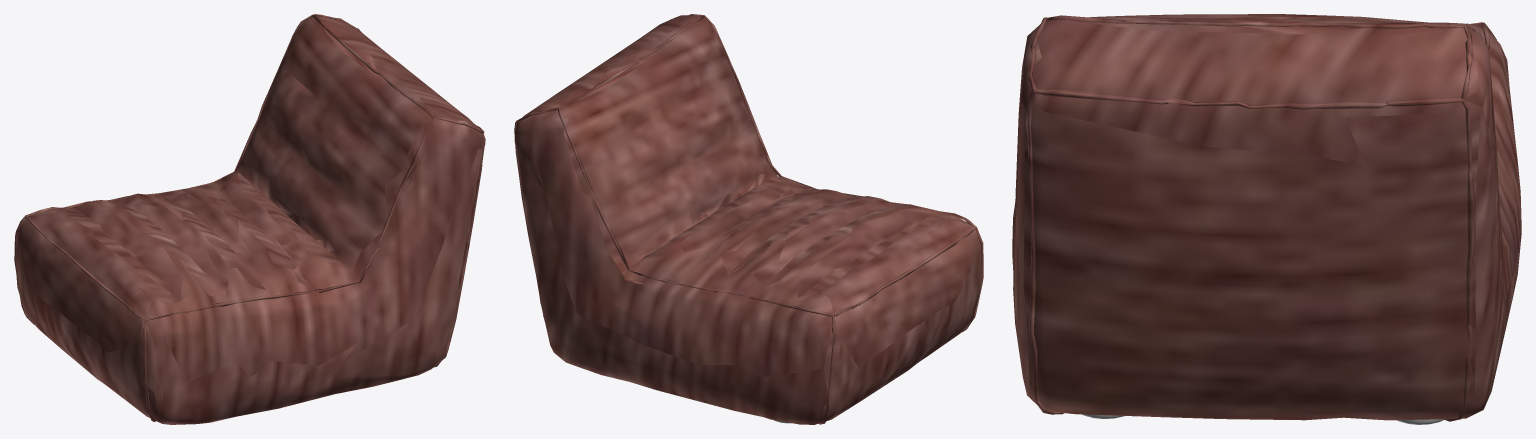
Rendered from sofaa.glb.
3 renders of one model, left to right at view 1: azimuth 30°, elevation 25°; view 2: azimuth 150°, elevation 25°; view 3: azimuth 270°, elevation 25°, orthographic. The views are drawn at different scales.
Parts seen in each view (by area): view 1: S_Sofa; view 2: S_Sofa; view 3: S_Sofa.
Boxes of the visible parts, x1,y1,x2,y2 form: S_Sofa: (14, 14, 485, 424); S_Sofa: (514, 14, 983, 424); S_Sofa: (1012, 14, 1521, 421).
Bounding box in the file's own units: 2.9 × 2.1 × 2.32.
2 materials, 1 textured.
